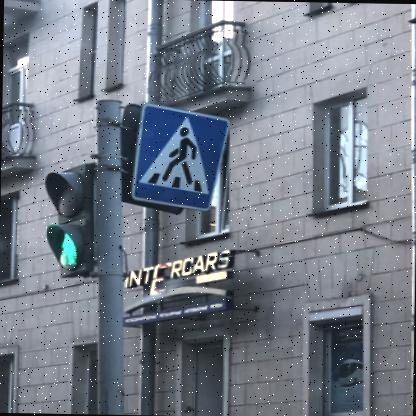crosswalk: (126, 101, 226, 209)
trafficlight: (38, 162, 96, 278)
